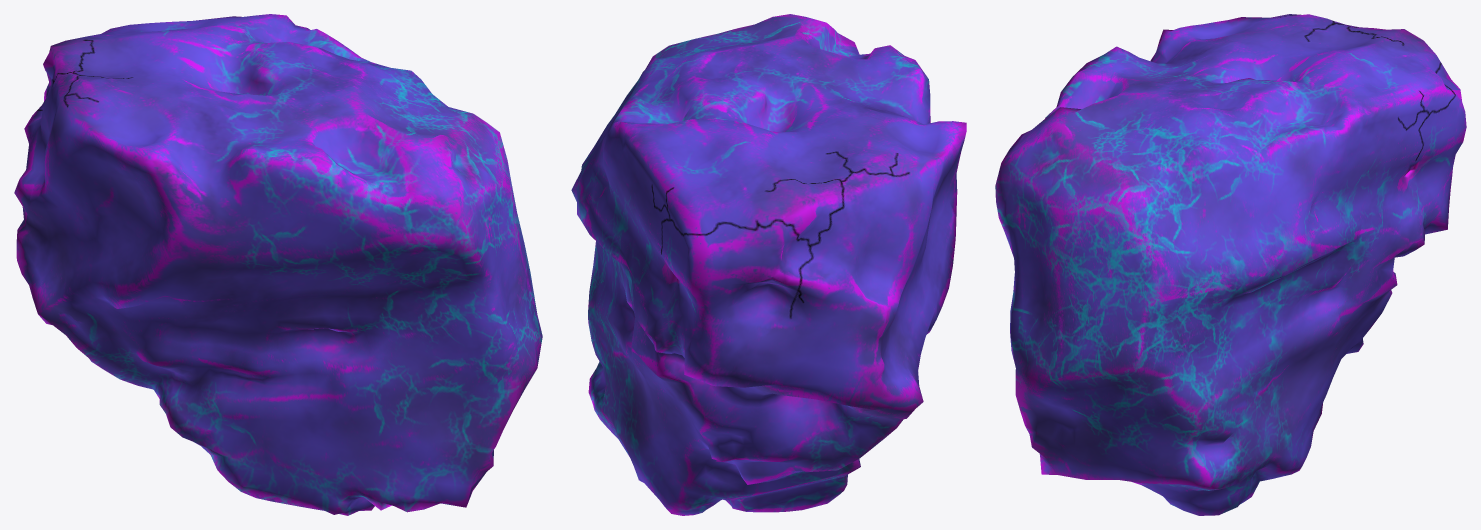
Rendered from alien_rock.glb.
3 views of the same model, side by side, from view 1: azimuth 30°, elevation 25°; view 2: azimuth 150°, elevation 25°; view 3: azimuth 270°, elevation 25° (orthographic). The views are drawn at different scales.
Parts seen in each view (by area): view 1: Volume23; view 2: Volume23; view 3: Volume23.
Boxes of the visible parts, left/top/right/bottom form: Volume23: left=14, top=14, right=542, bottom=515; Volume23: left=571, top=14, right=966, bottom=515; Volume23: left=995, top=14, right=1466, bottom=515.
Bounding box in the file's own units: 1.06 × 1.06 × 1.17.
1 material, 1 textured.
